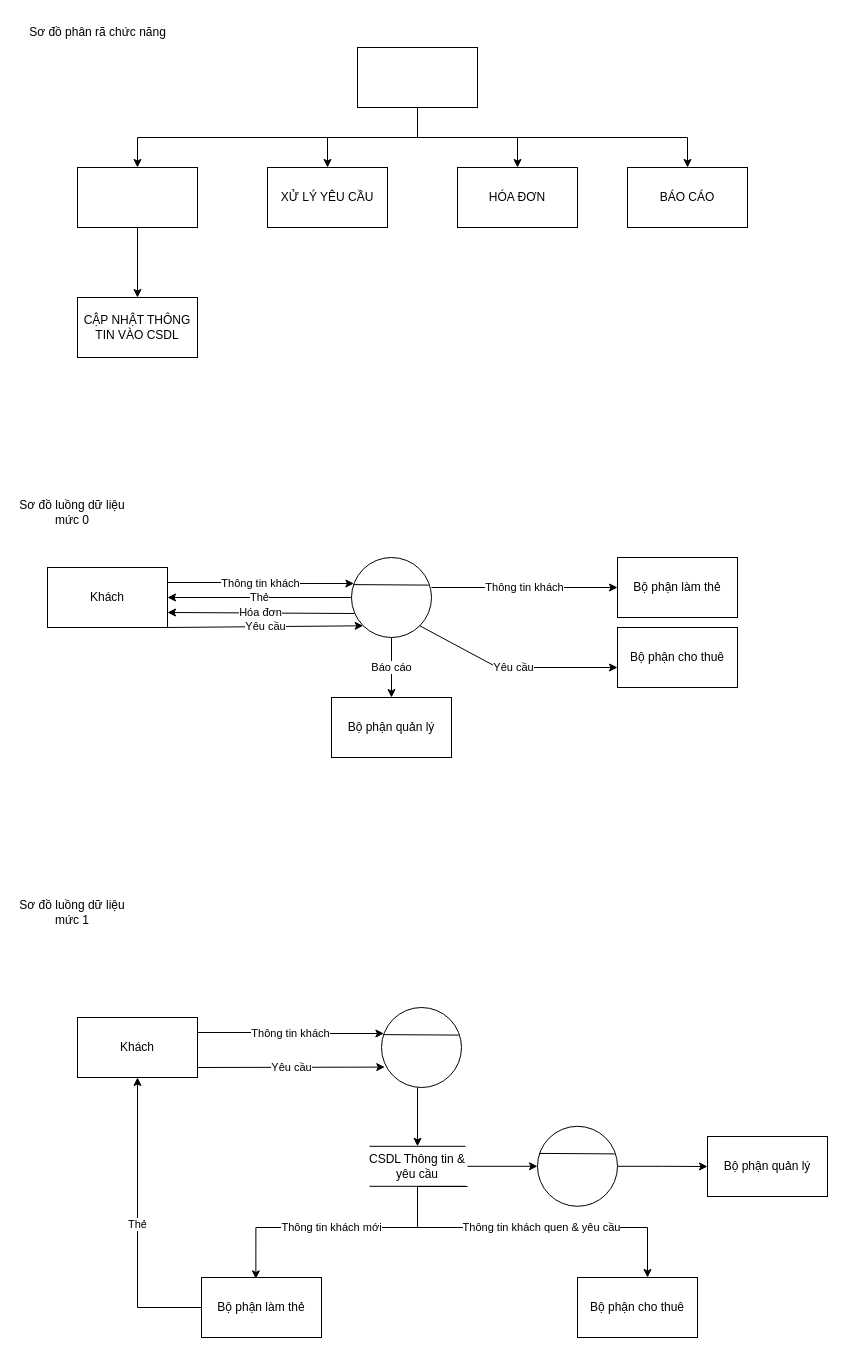
The diagram is 845 pixels wide and 1355 high, and some of its shapes have lost their labels. The centre of each missing label's shape, as x and y in pixels:
"0 Xử lý thuê băng đĩa" goes at point (391, 597).
"1 Tiếp nhận thông tin và yêu cầu" goes at point (421, 1047).
"2 Gửi báo cáo" goes at point (577, 1165).
"THUÊ BĂNG ĐĨA" goes at point (417, 77).
"TIẾP NHẬN THÔNG TIN KHÁCH" goes at point (137, 197).
